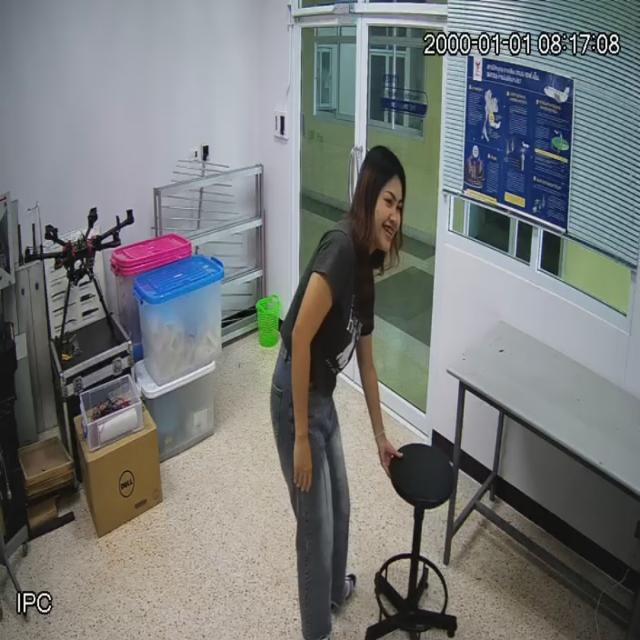normal: (273, 141, 403, 640)
